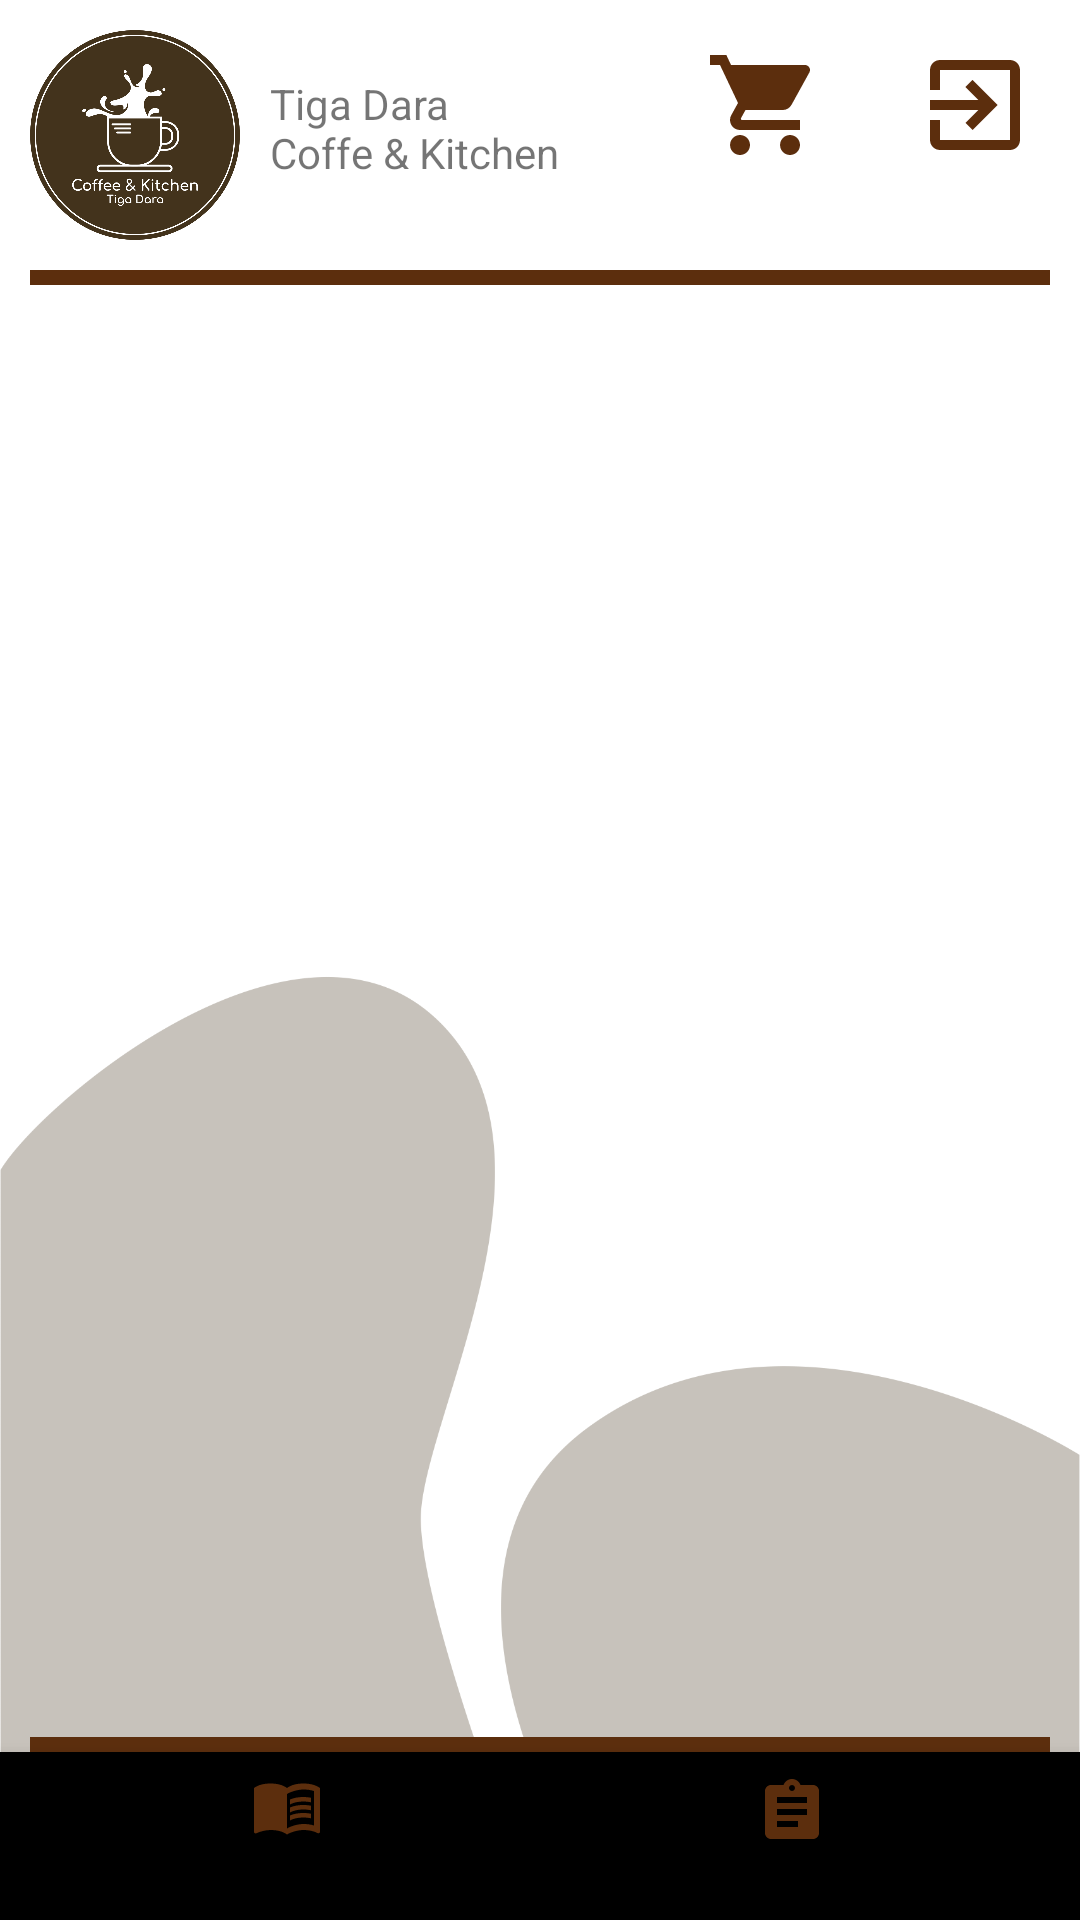

Named icons in this screenshot (1080w x 1920h) and their centers, (x,y):
exit to app: (975,105)
shopping cart: (760,105)
